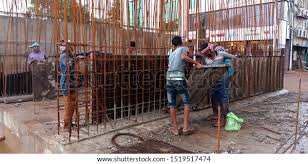arm: (25, 50, 35, 64)
face: (31, 44, 40, 51)
footwear: (180, 124, 194, 135), (163, 104, 172, 113)
helmet: (29, 39, 40, 50)
human: (162, 33, 198, 134), (24, 38, 50, 97)
leg: (176, 79, 195, 135), (216, 72, 231, 128), (163, 78, 178, 113)
nohelmet: (170, 33, 183, 46)
novest: (166, 46, 188, 80), (27, 49, 43, 66)
